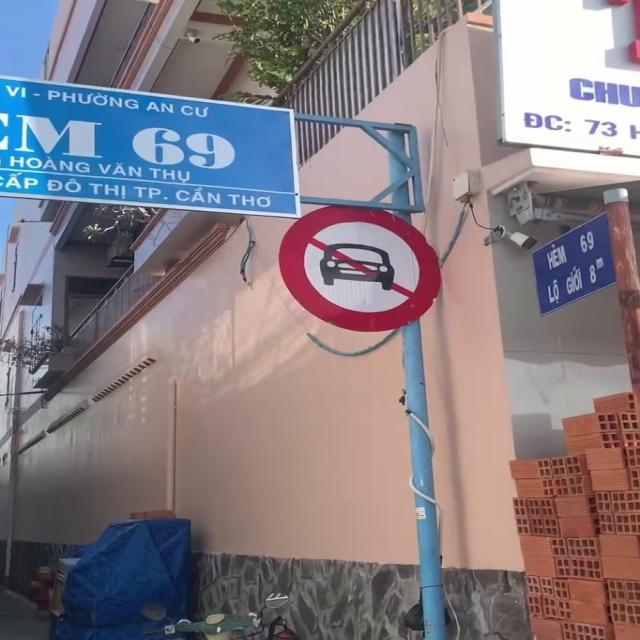Cam_O_To: (278, 206, 444, 333)
